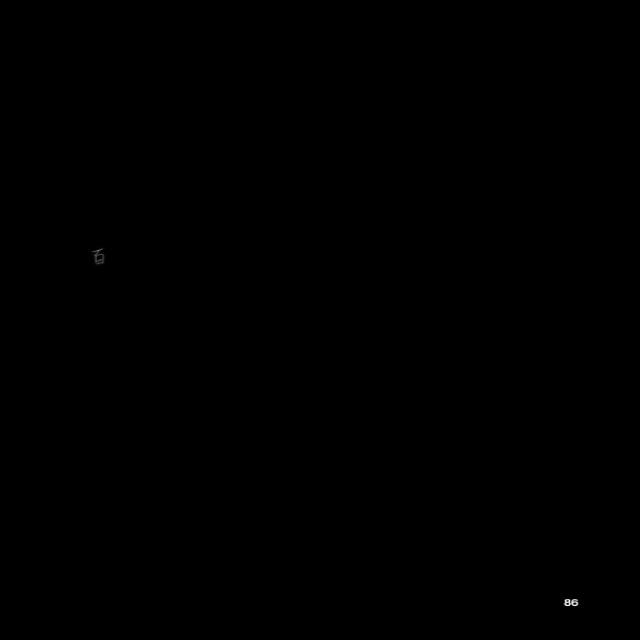100 -a hundred-: (83, 244, 110, 269)
